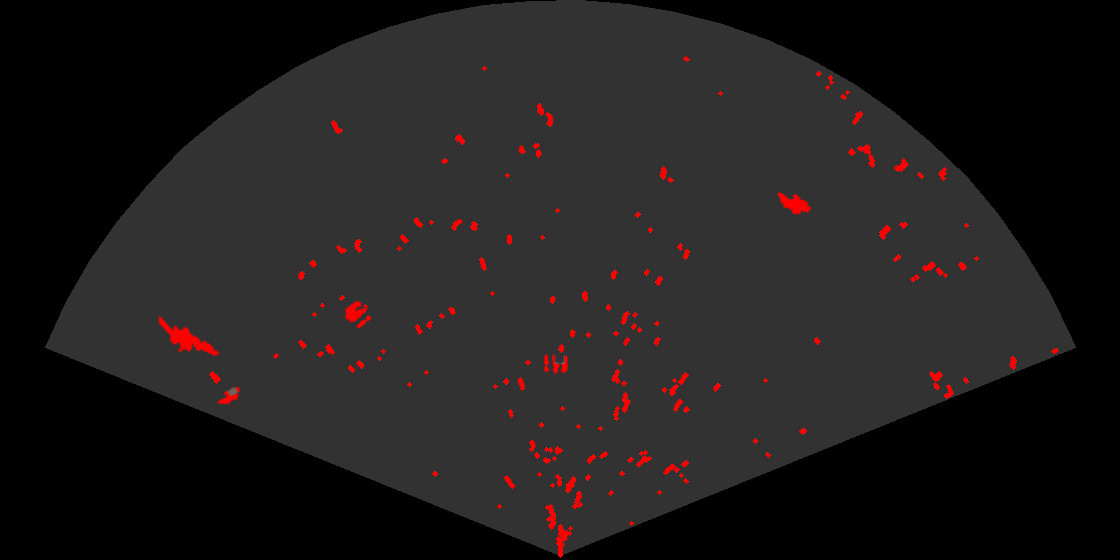AUV: (775, 191, 813, 216), (216, 385, 242, 409)
ball: (343, 299, 373, 330), (543, 353, 569, 376)
frogman: (159, 314, 221, 358)
